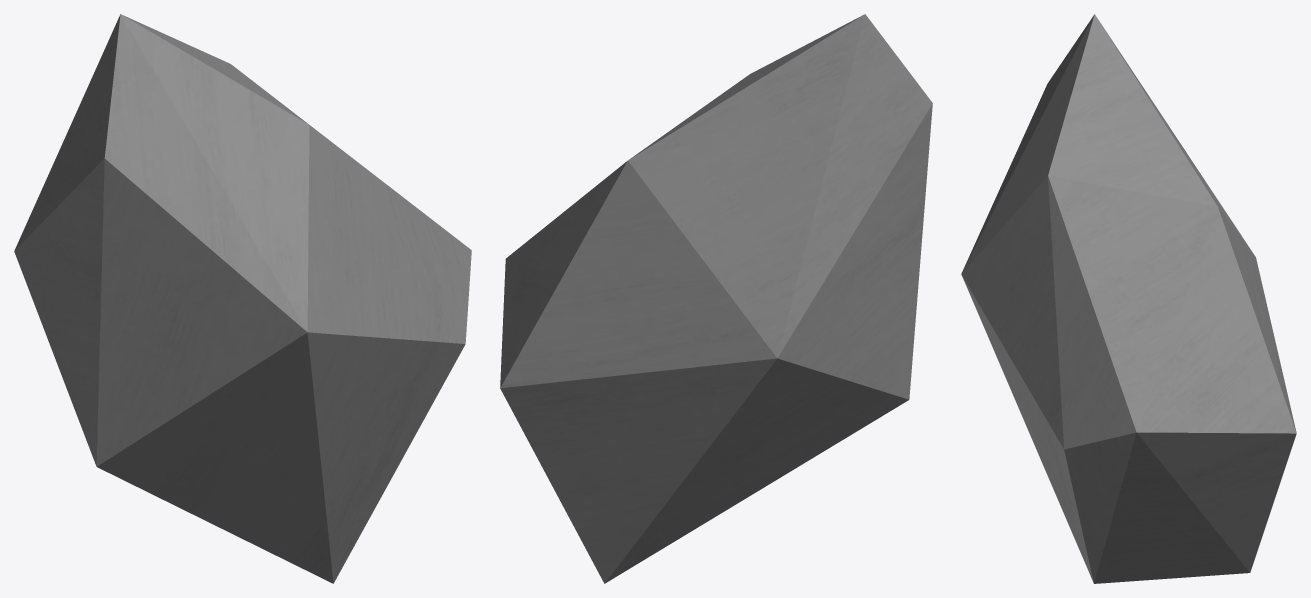
The model's file is stone.gltf.
3 renders of one model, left to right at view 1: azimuth 30°, elevation 25°; view 2: azimuth 150°, elevation 25°; view 3: azimuth 270°, elevation 25°, orthographic. The views are drawn at different scales.
Visible parts, largest first — view 1: Crystal; view 2: Crystal; view 3: Crystal.
Boxes of the visible parts, x1,y1,x2,y2 form: Crystal: [14, 14, 471, 583]; Crystal: [500, 14, 932, 583]; Crystal: [961, 14, 1296, 583].
Size of the model in its own units: 0.1289 by 0.1806 by 0.1125.
1 material, 1 textured.
